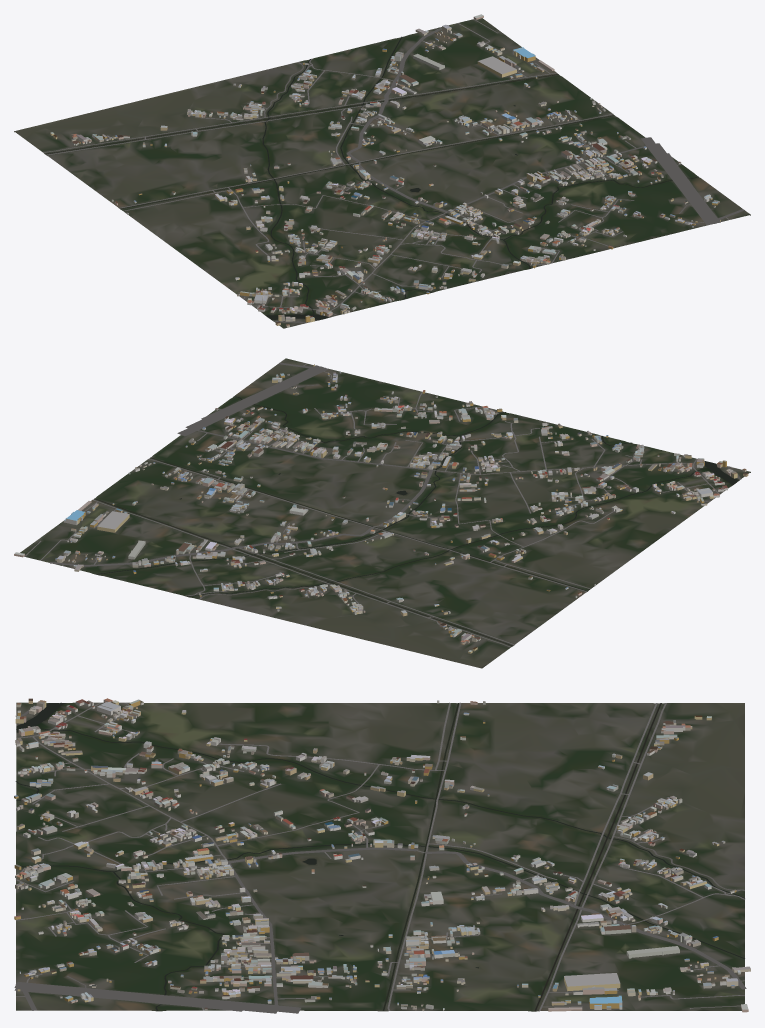
The picture shows the model from 3 angles, top to bottom: view 1: azimuth 30°, elevation 25°; view 2: azimuth 150°, elevation 25°; view 3: azimuth 270°, elevation 25°; orthographic projection. The views are drawn at different scales.
Visible parts, largest first — view 1: ground, buildings, roads, water; view 2: ground, buildings, roads, water; view 3: ground, buildings, roads, water.
Boxes of the visible parts, left/top/right/bottom form: ground: left=14, top=18, right=750, bottom=328; buildings: left=50, top=14, right=720, bottom=327; roads: left=43, top=19, right=744, bottom=323; water: left=45, top=36, right=698, bottom=319; ground: left=20, top=358, right=750, bottom=668; buildings: left=14, top=364, right=748, bottom=653; roads: left=24, top=362, right=741, bottom=647; water: left=94, top=396, right=738, bottom=645; ground: left=16, top=702, right=744, bottom=1011; buildings: left=14, top=698, right=750, bottom=1012; roads: left=14, top=702, right=746, bottom=1013; water: left=15, top=702, right=744, bottom=1011.
Size of the model in its own units: 1422 by 20.59 by 1416.
